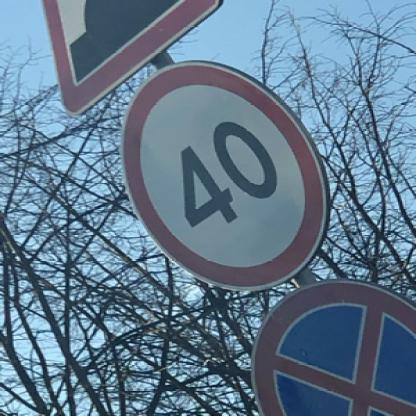speedlimit: (121, 59, 326, 291)
